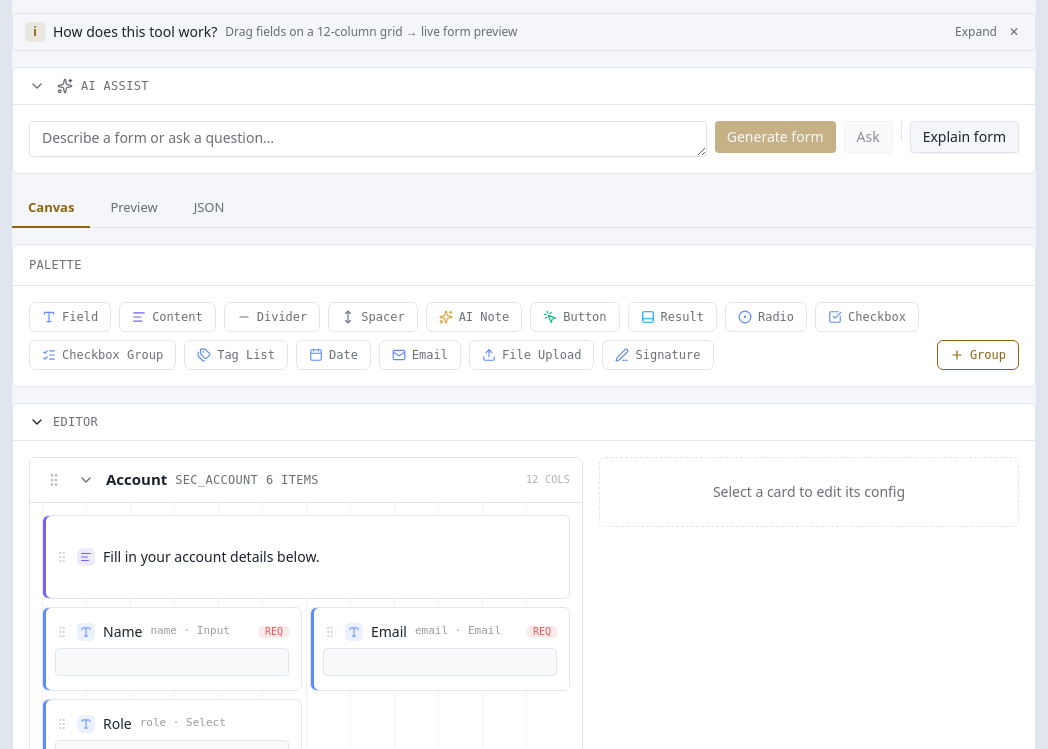
Scenario: FormBuilderTool preview tab integration › preview: query api button renders its rows as a ConfigTable in the result
Click the button "Preview": [134, 209] box [94, 190, 174, 228]
(page scrolled)
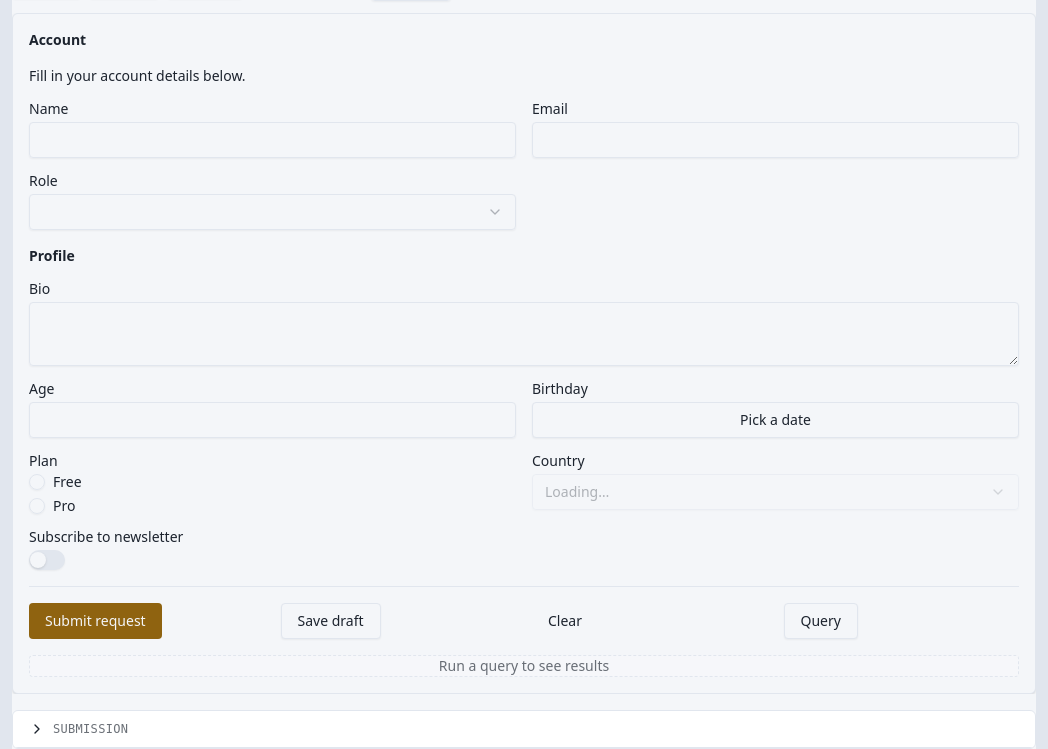
Click the button "Query": [821, 620] box [784, 602, 858, 638]
(page scrolled)
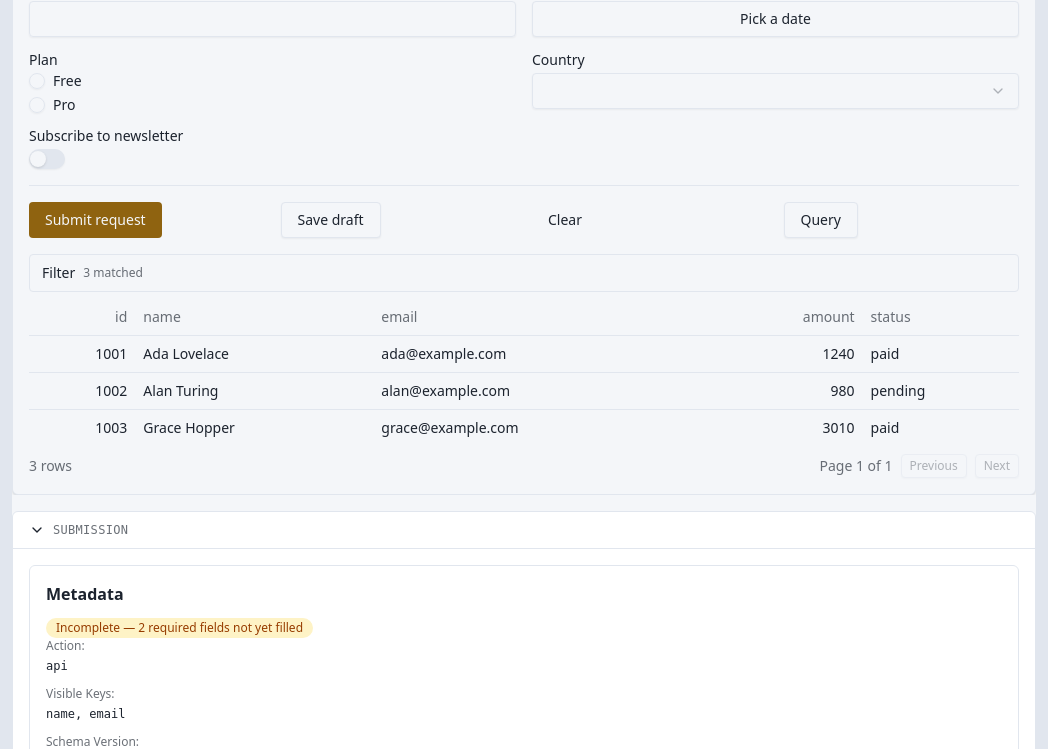
Result: the element that starts with "Filter" shows "email" at [381, 307, 417, 326]
Result: the element that starts with "Filter" shows "Ada Lovelace" at [143, 344, 229, 363]
